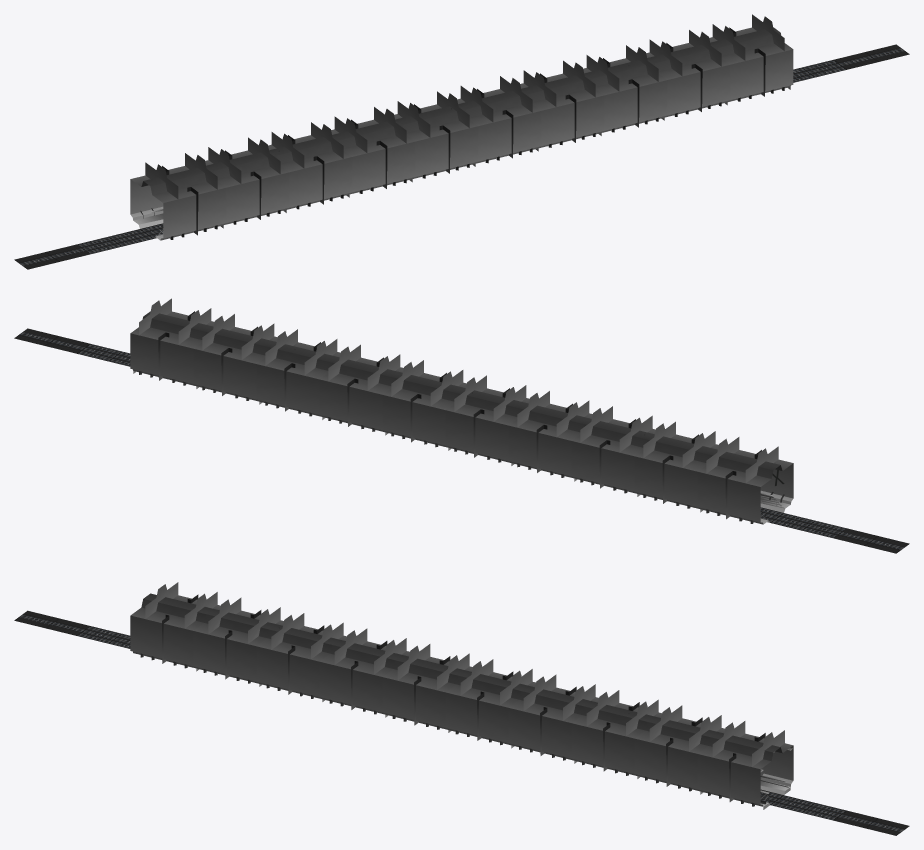
File: subwaysurferstest78.glb
The picture shows the model from 3 angles, top to bottom: view 1: azimuth 30°, elevation 25°; view 2: azimuth 150°, elevation 25°; view 3: azimuth 330°, elevation 25°; orthographic projection.
Visible parts, largest first — view 1: Cube.010, Cube.007, Cube.009, Cube.002, Cube.003, Cube.004, Cube.005, Cube.008, Cube.001, Cube.006; view 2: Cube.010, Cube.002, Cube.009, Cube.007, Cube.008, Cube.001, Cube.004, Cube.006, Cube.005, Cube.003; view 3: Cube.001, Cube.010, Cube.007, Cube.009, Cube.005, Cube.008, Cube.006, Cube.002, Cube.004, Cube.003.
Part boxes in pixels (x1,y1,x2,y2): Cube.010: (130,153,226,240); Cube.007: (331,107,415,194); Cube.009: (205,137,289,224); Cube.002: (646,30,730,117); Cube.003: (583,45,667,132); Cube.004: (520,60,604,148); Cube.005: (457,76,541,163); Cube.008: (268,122,352,209); Cube.001: (709,14,793,101); Cube.006: (394,91,478,178); Cube.010: (697,437,793,524); Cube.002: (193,314,277,401); Cube.009: (634,421,718,508); Cube.007: (508,391,592,478); Cube.008: (571,406,655,493); Cube.001: (130,298,214,385); Cube.004: (319,344,403,432); Cube.006: (445,375,529,462); Cube.005: (382,360,466,447); Cube.003: (256,329,340,416); Cube.001: (697,721,793,809); Cube.010: (130,582,220,671); Cube.007: (319,628,409,717); Cube.009: (193,597,283,686); Cube.005: (445,659,535,748); Cube.008: (256,613,346,701); Cube.006: (382,644,472,732); Cube.002: (634,705,724,794); Cube.004: (508,674,598,763); Cube.003: (571,690,661,778).
Size of the model in its own units: 562 by 38.93 by 40.
4 materials, 4 textured.
